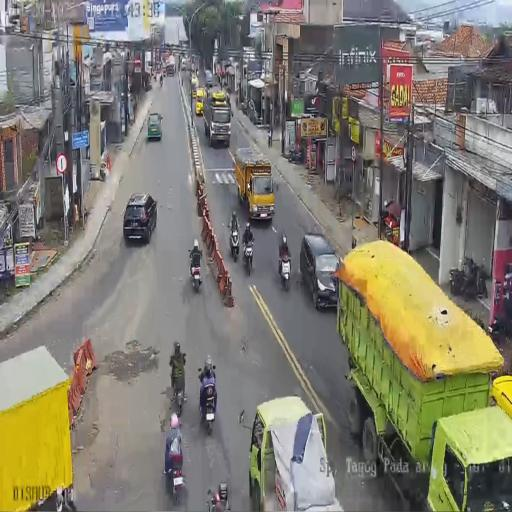3: (332, 246, 506, 482), (235, 147, 273, 220), (202, 88, 231, 148), (144, 50, 153, 76), (165, 55, 175, 76), (190, 76, 199, 98), (186, 57, 195, 71)
car: (299, 232, 338, 306), (124, 192, 158, 244), (147, 113, 162, 141), (195, 87, 206, 117), (204, 68, 212, 87), (181, 58, 186, 70)
truck: (164, 439, 186, 505), (198, 371, 217, 435), (490, 298, 512, 339), (171, 365, 187, 415), (188, 248, 203, 292), (242, 235, 255, 278), (229, 220, 240, 261), (286, 144, 303, 164), (159, 73, 163, 87)
